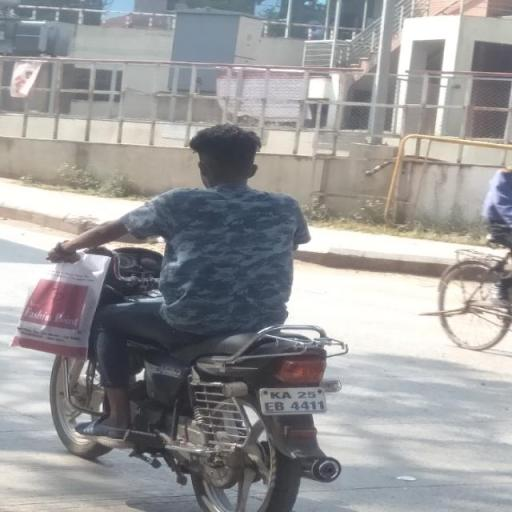bike: (20, 115, 356, 512)
numberplate: (261, 388, 330, 414)
withouthelmet: (194, 127, 258, 186)
